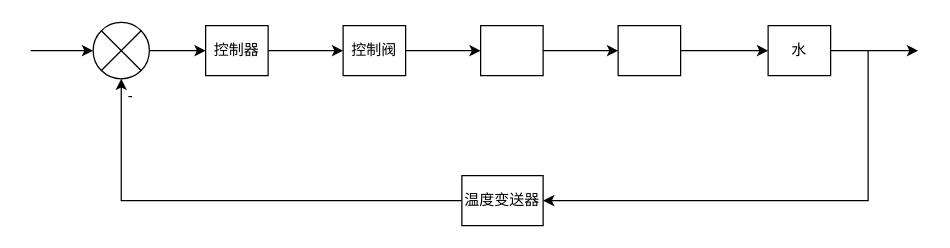
This 950x248 diagram has some shape labels left out. The shapes that lost their labels are listed below. From the top down, each one's box as (x1, y1, x2, y2) in pixels, then its label:
(479, 24, 543, 76): 炉膛
(617, 24, 681, 76): 锅炉壁
